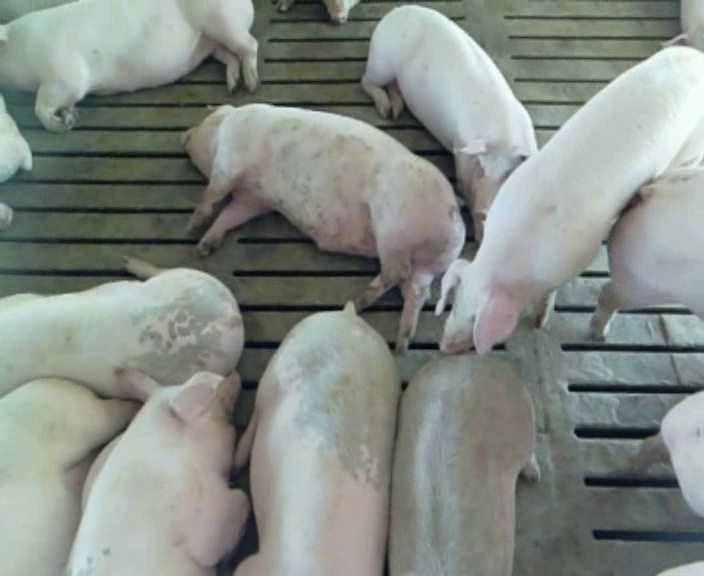pig: (437, 47, 703, 352), (183, 104, 464, 347), (236, 302, 398, 574), (361, 5, 536, 241), (67, 369, 248, 573), (0, 257, 243, 397), (389, 355, 539, 574), (0, 379, 137, 574), (591, 167, 703, 340), (637, 391, 703, 516)
